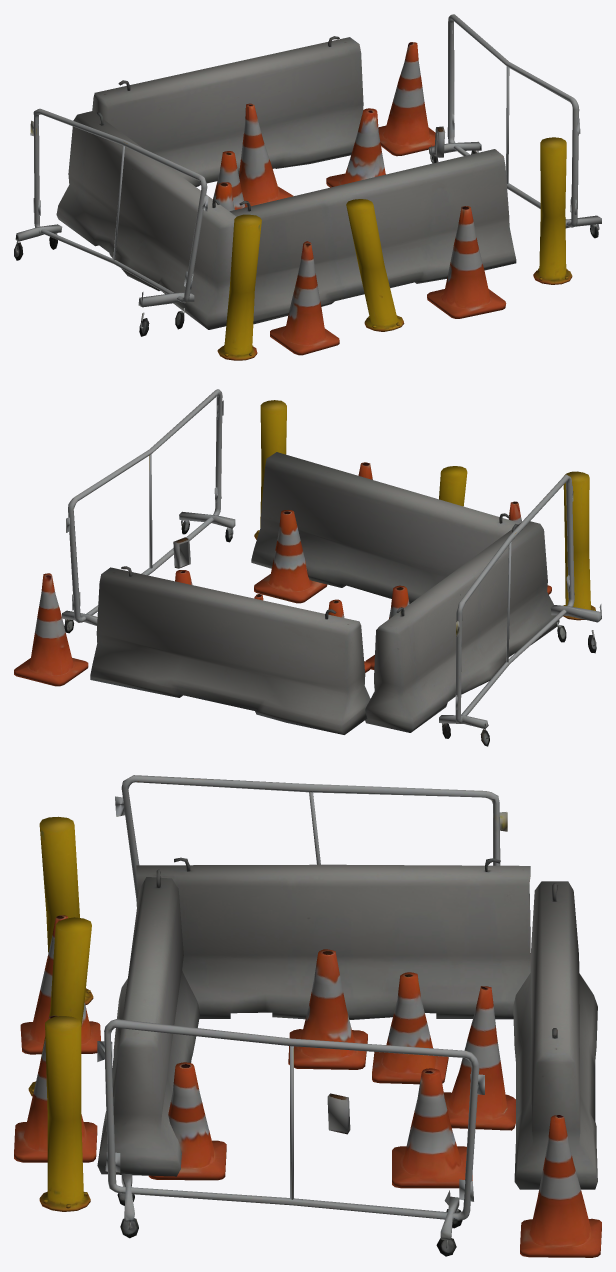
The model's file is barreiras_aeroporto.glb.
3 renders of one model, top to bottom at view 1: azimuth 30°, elevation 25°; view 2: azimuth 150°, elevation 25°; view 3: azimuth 270°, elevation 25°, orthographic. The views are drawn at different scales.
Visible parts, largest first — view 1: Kit de barreiras aeroportuárias; view 2: Kit de barreiras aeroportuárias; view 3: Kit de barreiras aeroportuárias.
Boxes of the visible parts, x1=… form: Kit de barreiras aeroportuárias: x1=14, y1=14, x2=601, y2=360; Kit de barreiras aeroportuárias: x1=14, y1=389, x2=601, y2=746; Kit de barreiras aeroportuárias: x1=14, y1=775, x2=601, y2=1257.
Size of the model in its own units: 0.998 by 0.3652 by 0.8535.
Materials: 1 (1 with a texture image).
